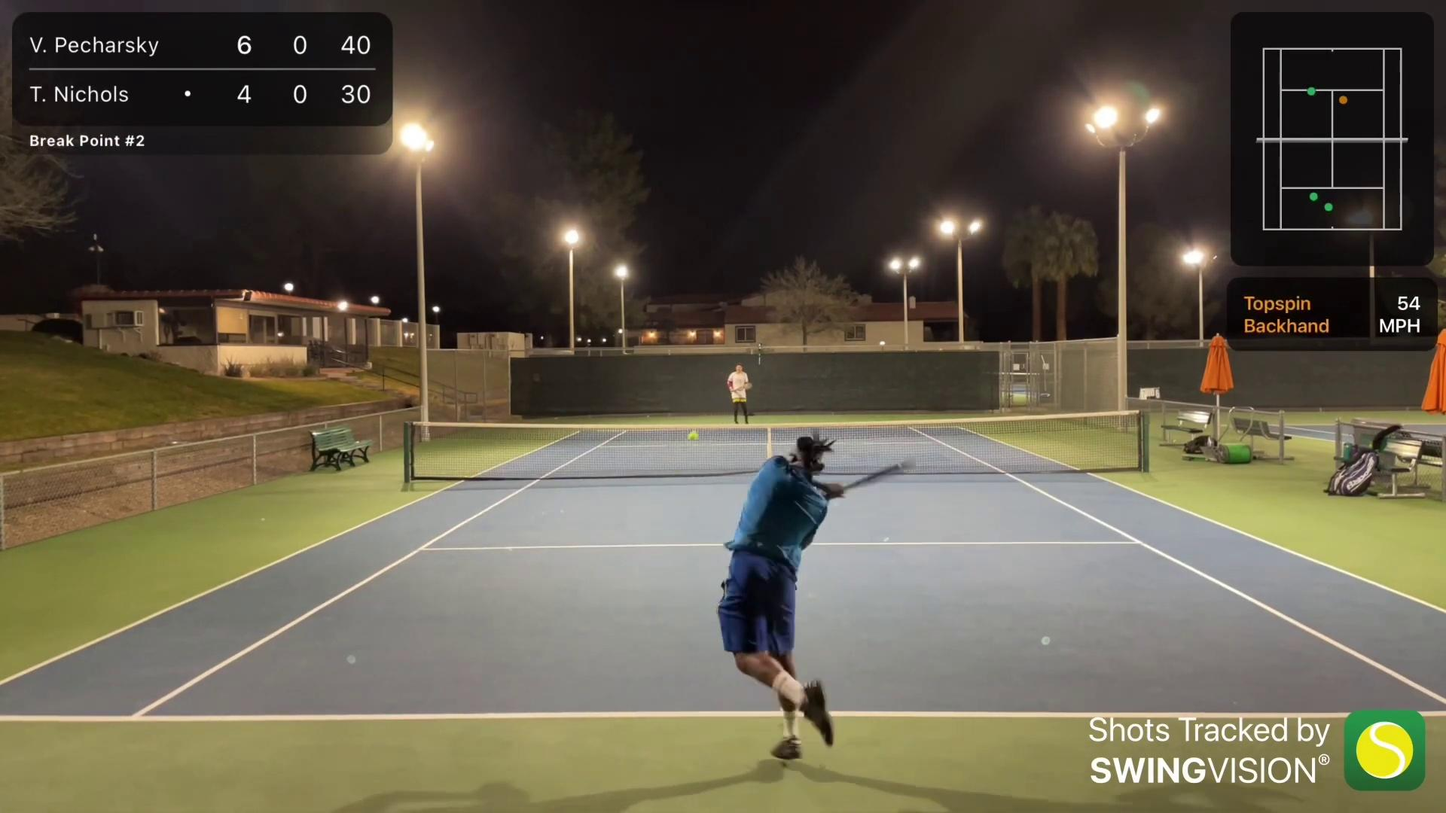ball: (686, 425, 700, 440)
